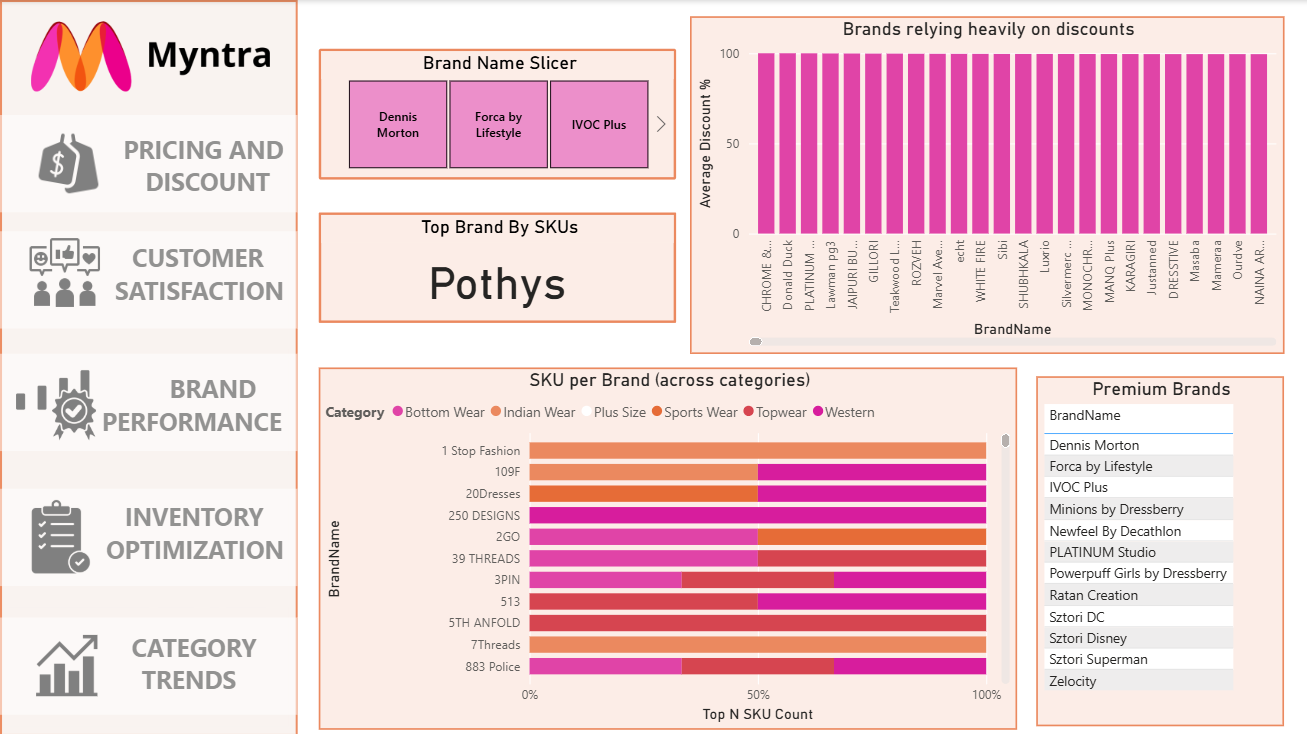

The dashboard page shown, as its layout file describes it:
{"tool":"powerbi","page":{"name":"Page 3","canvas":[1280,720],"ordinal":2},"visuals":[{"type":"shape","box":[0,0,291.2,720],"z":0},{"type":"image","box":[0,16.2,295,78.8],"z":1000},{"type":"textbox","box":[8.8,125,273.8,82.5],"z":2000},{"type":"image","box":[33,123.5,68.5,72.1],"z":3000},{"type":"textbox","box":[8.6,231.1,273.9,90.5],"z":4000},{"type":"image","box":[8.6,226.2,108.8,80.7],"z":5000},{"type":"textbox","box":[8.6,341.2,273.9,103.9],"z":6000},{"type":"image","box":[8.6,348.5,92.9,96.6],"z":7000},{"type":"textbox","box":[8.6,484.2,273.9,84.4],"z":8000},{"type":"image","box":[17.1,484.2,85.6,81.9],"z":9000},{"type":"textbox","box":[8.8,593.8,273.8,116.2],"z":10000},{"type":"image","box":[28.1,616.3,74.6,69.7],"z":11000},{"type":"actionButton","box":[0,112.5,291,95.4],"z":12000},{"type":"actionButton","box":[0,226.2,291,95.4],"z":13000},{"type":"actionButton","box":[0,346.1,291,95.4],"z":14000},{"type":"actionButton","box":[0,478.1,291,95.4],"z":15000},{"type":"actionButton","box":[0,604.1,291,95.4],"z":16000},{"type":"hundredPercentStackedBarChart","title":"SKU per Brand (across categories)","fields":{"Category":["myntra_cleaned.BrandName"],"Series":["myntra_cleaned.Category"],"Y":["myntra_cleaned.Top N SKU Count"]},"box":[311.8,359.5,683.6,354.6],"z":17000},{"type":"columnChart","title":"Brands relying heavily on discounts","fields":{"Y":["myntra_cleaned.Avg_Discount%"],"Category":["myntra_cleaned.BrandName"]},"box":[675,16.2,581.2,330],"z":18000},{"type":"tableEx","title":"Premium Brands","fields":{"Values":["myntra_cleaned.BrandName"]},"box":[1013.7,368.1,242.1,342.4],"z":19000},{"type":"card","title":"Top Brand By SKUs","fields":{"Values":["myntra_cleaned.Top Brand by SKUs"]},"box":[311.8,207.9,349.7,107.6],"z":20000},{"type":"slicer","title":"Brand Name Slicer","fields":{"Values":["myntra_cleaned.BrandName"]},"box":[311.8,47.7,349.7,128.4],"z":21000}]}

Visuals, with their boxes in screenshot pixels (x1, y1, x2, y2), scaled from the page's 1280x720 canvas onto the 1307x734 screenshot:
shape: detection(0, 0, 297, 733)
image: detection(0, 17, 301, 97)
textbox: detection(9, 127, 289, 212)
image: detection(34, 126, 104, 199)
textbox: detection(9, 236, 288, 328)
image: detection(9, 231, 120, 313)
textbox: detection(9, 348, 288, 454)
image: detection(9, 355, 104, 454)
textbox: detection(9, 494, 288, 580)
image: detection(17, 494, 105, 577)
textbox: detection(9, 605, 289, 724)
image: detection(29, 628, 105, 699)
actionButton: detection(0, 115, 297, 212)
actionButton: detection(0, 231, 297, 328)
actionButton: detection(0, 353, 297, 450)
actionButton: detection(0, 487, 297, 585)
actionButton: detection(0, 616, 297, 713)
"SKU per Brand (across categories)" hundredPercentStackedBarChart: detection(318, 366, 1016, 728)
"Brands relying heavily on discounts" columnChart: detection(689, 17, 1283, 353)
"Premium Brands" tableEx: detection(1035, 375, 1282, 724)
"Top Brand By SKUs" card: detection(318, 212, 675, 322)
"Brand Name Slicer" slicer: detection(318, 49, 675, 180)
